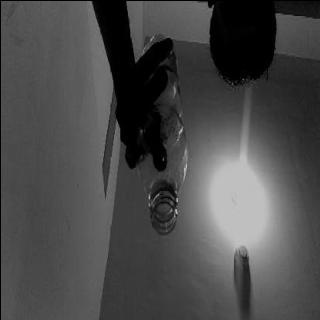plastic_bottles: (134, 29, 188, 238)
